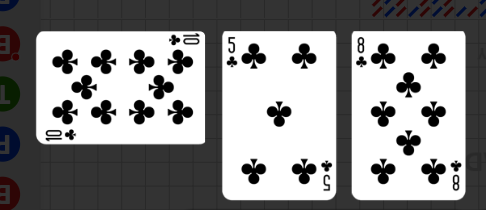10C: (166, 32, 201, 47), (44, 127, 79, 142)
8C: (355, 35, 369, 70)
